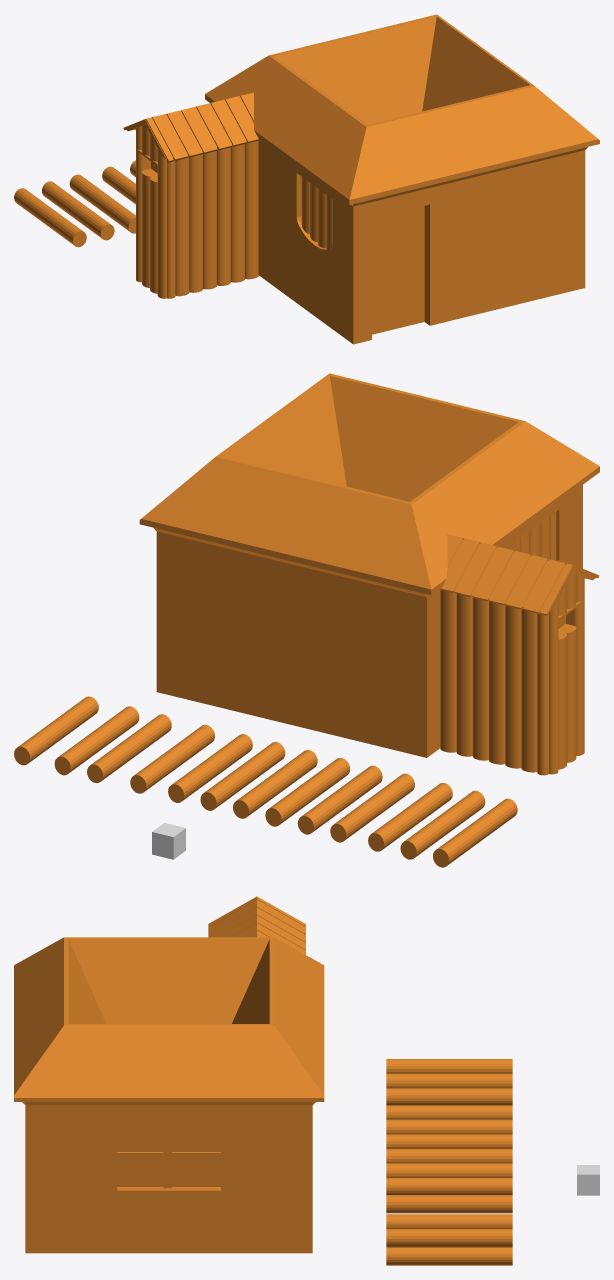
The model's file is home1.glb.
3 renders of one model, top to bottom at view 1: azimuth 30°, elevation 25°; view 2: azimuth 150°, elevation 25°; view 3: azimuth 270°, elevation 25°, orthographic. The views are drawn at different scales.
Visible parts, largest first — view 1: siedler-2-holzfa-ller; view 2: siedler-2-holzfa-ller, Cube; view 3: siedler-2-holzfa-ller, Cube.
Part boxes in pixels (x1,y1,x2,y2): siedler-2-holzfa-ller: (14,14,599,344); siedler-2-holzfa-ller: (14,373,599,867); Cube: (152,823,185,859); siedler-2-holzfa-ller: (14,896,512,1265); Cube: (577,1165,599,1195).
Size of the model in its own units: 40.25 by 21.25 by 51.
